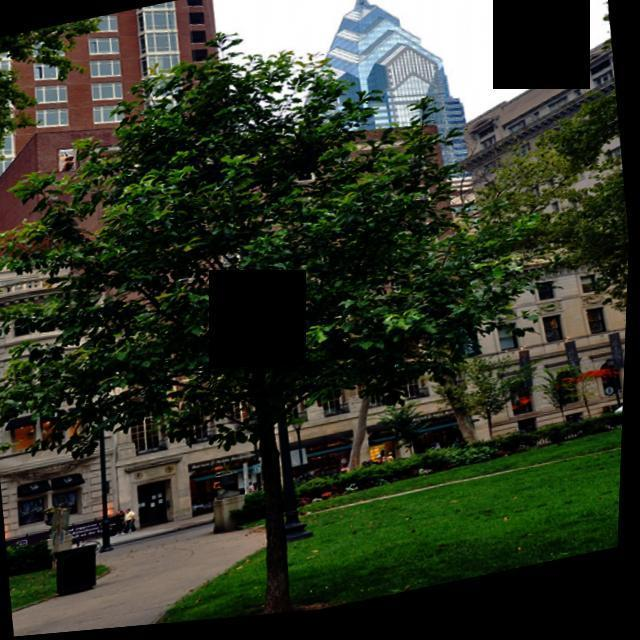tree: (0, 3, 541, 640), (451, 0, 640, 482), (0, 18, 109, 172)
